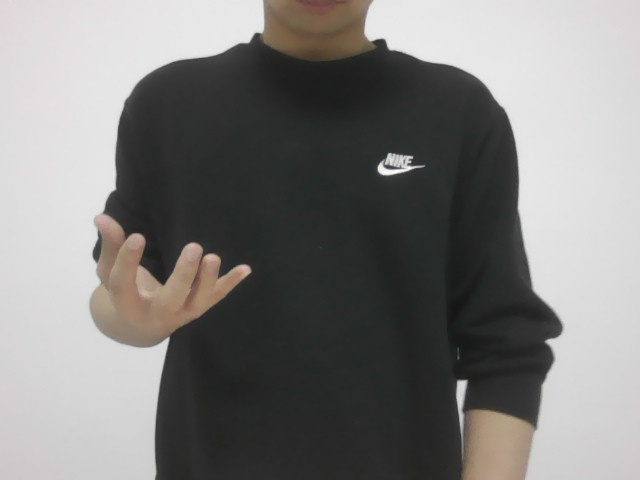flavor: (72, 203, 263, 348)
